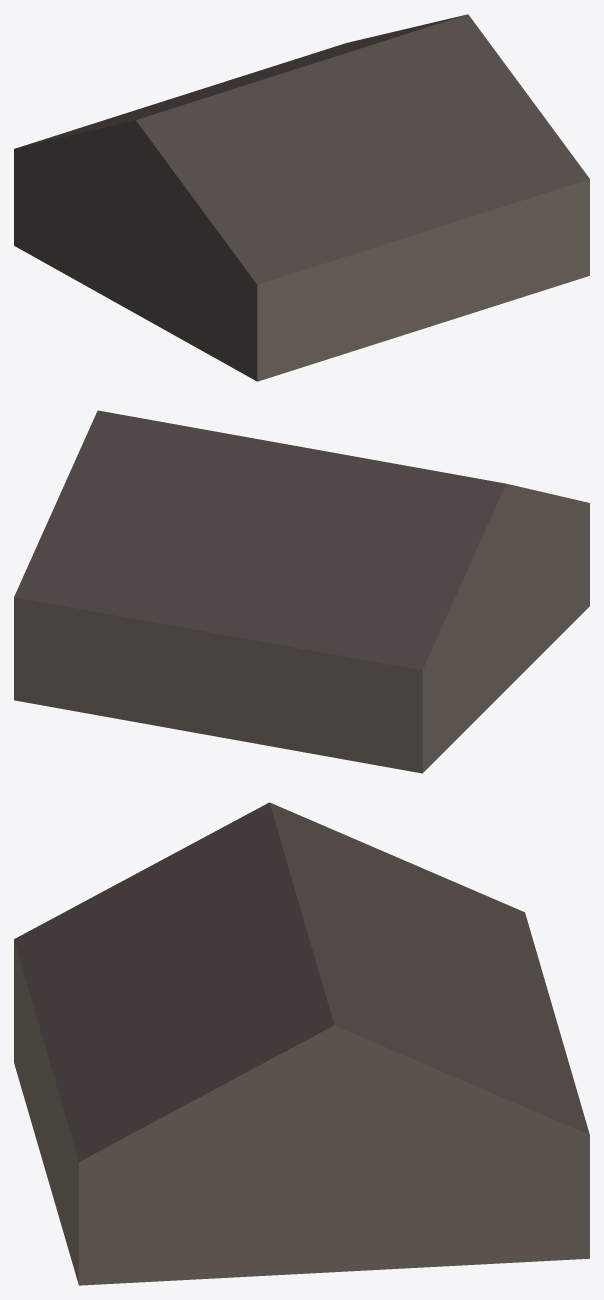
3 renders of one model, top to bottom at view 1: azimuth 30°, elevation 25°; view 2: azimuth 150°, elevation 25°; view 3: azimuth 270°, elevation 25°, orthographic. The views are drawn at different scales.
Visible parts, largest first — view 1: HP-w408450748; view 2: HP-w408450748; view 3: HP-w408450748.
Boxes of the visible parts, x1,y1,x2,y2 form: HP-w408450748: (14, 14, 589, 381); HP-w408450748: (14, 410, 589, 773); HP-w408450748: (14, 802, 589, 1285).
Bounding box in the file's own units: 13.02 × 6 × 12.68.
